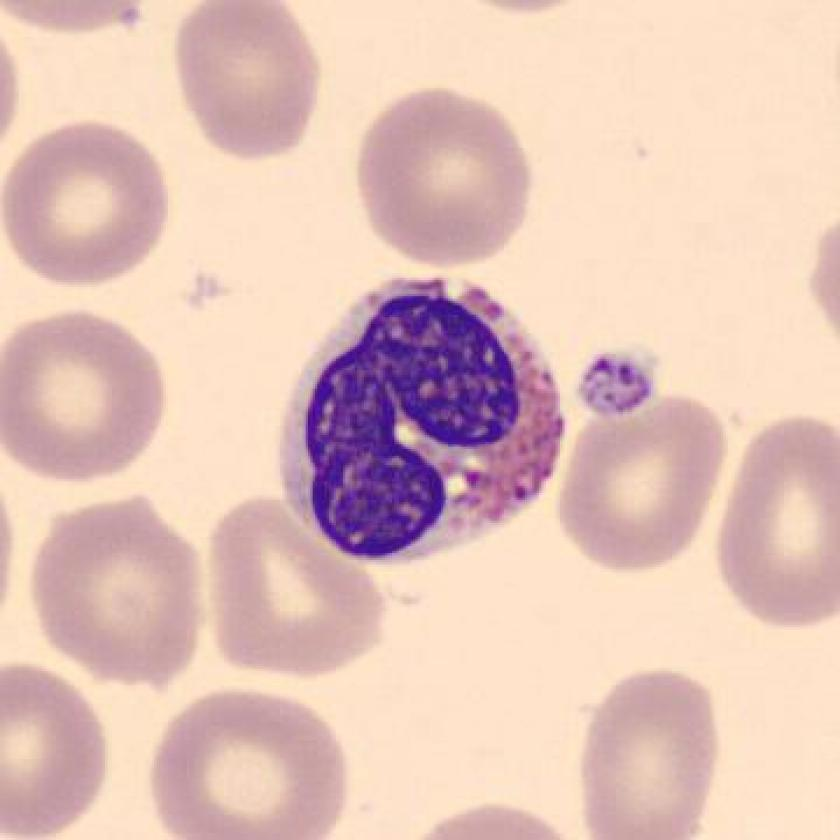eosinophil: (262, 258, 580, 589)
